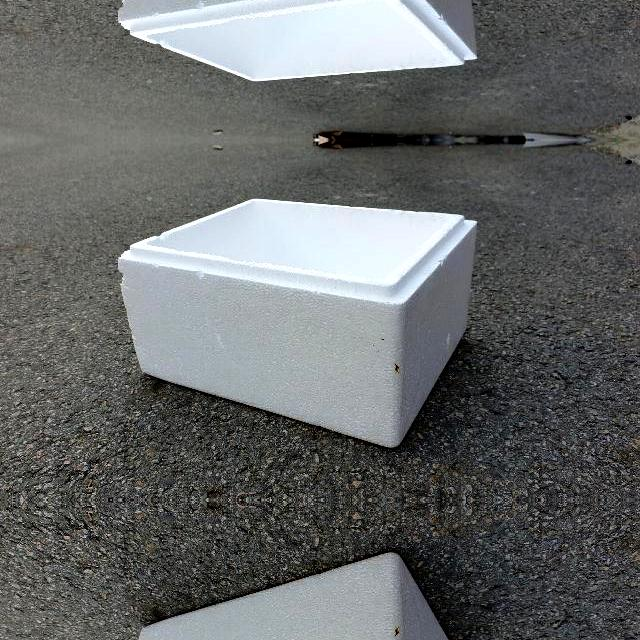Styrofoam: (118, 198, 478, 448), (118, 198, 477, 447), (117, 552, 478, 640), (118, 0, 477, 82), (117, 0, 478, 81), (138, 553, 449, 640)
